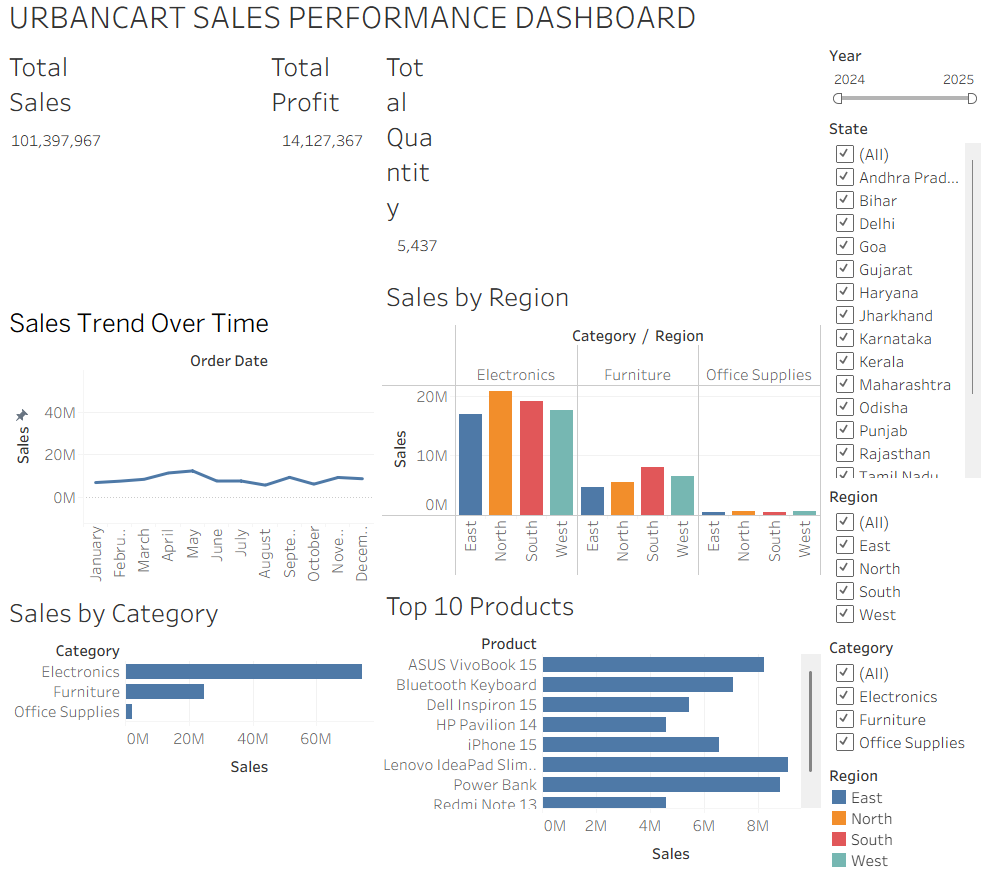

The page's visual inventory and layout, read from the dashboard file:
{"tool":"tableau","page":{"name":"URBANCART SALES PERFORMANCE DASHBOARD","canvas":[1000,900],"ordinal":0},"visuals":[{"type":"title","box":[8,8,984,50]},{"type":"worksheet","title":"Total Sales","mark":"Automatic","box":[8,58,262,258.4]},{"type":"worksheet","title":"Total Profit","mark":"Automatic","box":[270,58,115,258.4]},{"type":"worksheet","title":"Total Quantity","mark":"Automatic","box":[385,58,447,230]},{"type":"filter","title":"Sales Trend","param":"[federated.0jpo13b07d6isn13wrori177cxuy].[none:Year:qk]","box":[832,58,160,73]},{"type":"filter","title":"Sales Trend","param":"[federated.0jpo13b07d6isn13wrori177cxuy].[none:State:nk]","box":[832,131,160,368]},{"type":"worksheet","title":"Sales by Region","mark":"Automatic","rows":["Sales"],"cols":["Category","Region"],"box":[385,288,447,308.9]},{"type":"worksheet","title":"Sales Trend","mark":"Automatic","rows":["Sales"],"cols":["Order Date"],"box":[8,316.4,377,287.8]},{"type":"filter","title":"Sales Trend","param":"[federated.0jpo13b07d6isn13wrori177cxuy].[none:Region:nk]","box":[832,499,160,151]},{"type":"worksheet","title":"Top 10 Products","mark":"Automatic","rows":["Product"],"cols":["Sales"],"box":[385,596.9,447,295.1]},{"type":"worksheet","title":"Sales by Category","mark":"Automatic","rows":["Category"],"cols":["Sales"],"box":[8,604.2,377,287.8]},{"type":"filter","title":"Sales Trend","param":"[federated.0jpo13b07d6isn13wrori177cxuy].[none:Category:nk]","box":[832,650,160,128]},{"type":"legend","title":"Sales by Region","param":"[federated.0jpo13b07d6isn13wrori177cxuy].[none:Region:nk]","box":[832,778,160,114]}]}

Visuals, with their boxes in screenshot pixels (x1, y1, x2, y2), scaled from the page's 1000x900 canvas onto the 987x877 screenshot:
title: 8,8,979,57
"Total Sales" worksheet: 8,57,266,308
"Total Profit" worksheet: 266,57,380,308
"Total Quantity" worksheet: 380,57,821,281
"Sales Trend" filter: 821,57,979,128
"Sales Trend" filter: 821,128,979,486
"Sales by Region" worksheet: 380,281,821,582
"Sales Trend" worksheet: 8,308,380,589
"Sales Trend" filter: 821,486,979,633
"Top 10 Products" worksheet: 380,582,821,869
"Sales by Category" worksheet: 8,589,380,869
"Sales Trend" filter: 821,633,979,758
"Sales by Region" legend: 821,758,979,869
